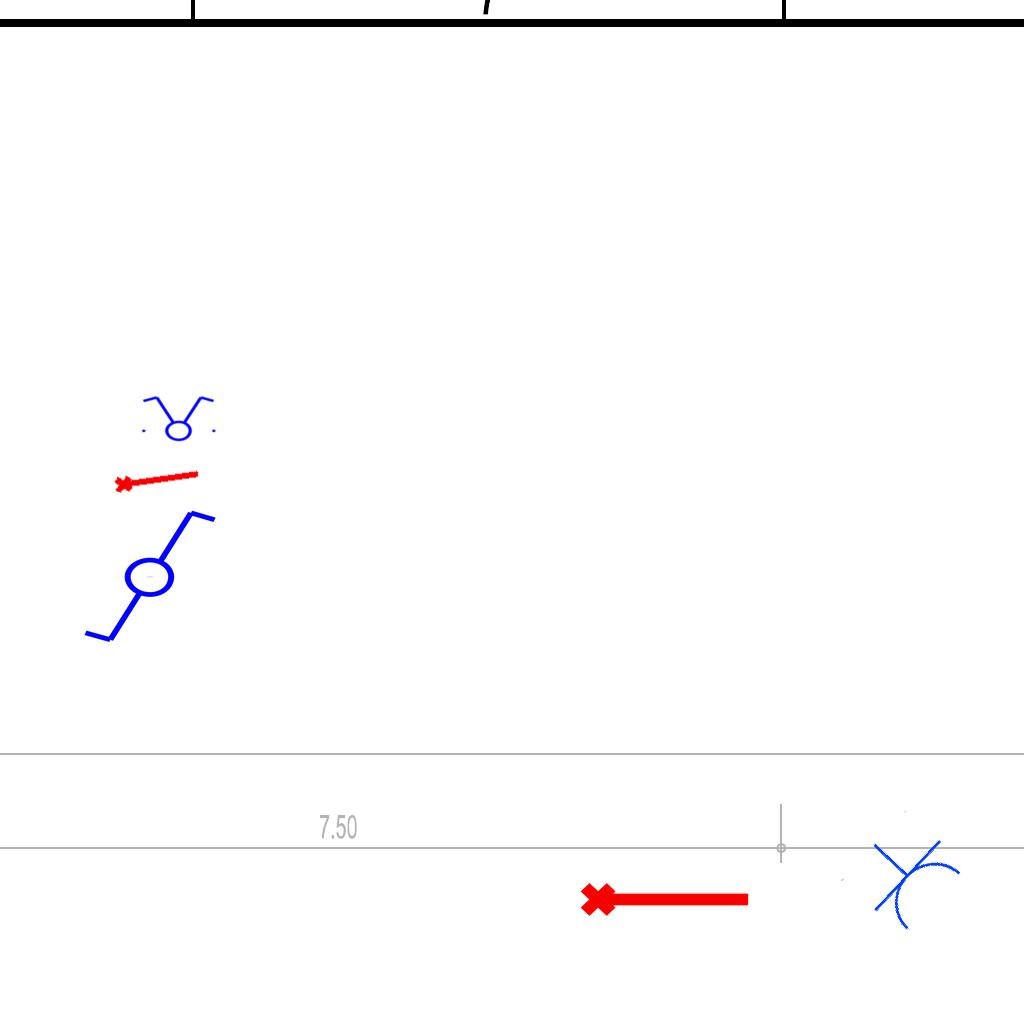ASR_Ansaugoeffnung: (578, 874, 754, 920), (111, 460, 203, 497)
Schukosteckdose_einfach: (839, 808, 971, 941)
Serienschalter: (136, 394, 220, 442)
Wechselschalter: (63, 503, 220, 647)
